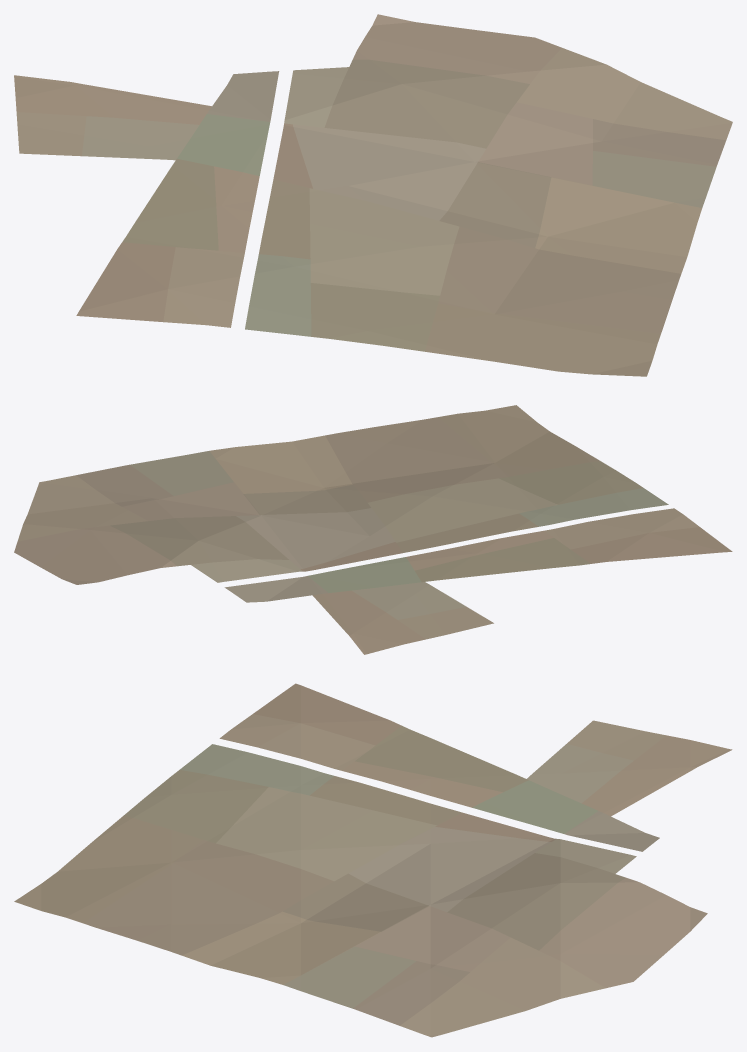
File: farm_7_-3_soil.glb
3 views of the same model, one above another, from view 1: azimuth 30°, elevation 25°; view 2: azimuth 150°, elevation 25°; view 3: azimuth 270°, elevation 25° (orthographic). The views are drawn at different scales.
Parts seen in each view (by area): view 1: geometry_0; view 2: geometry_0; view 3: geometry_0.
Part boxes in pixels (x1,y1,x2,y2): geometry_0: (14, 14, 732, 376); geometry_0: (14, 405, 732, 654); geometry_0: (14, 683, 732, 1037).
Bounding box in the file's own units: 463 × 36.66 × 443.
